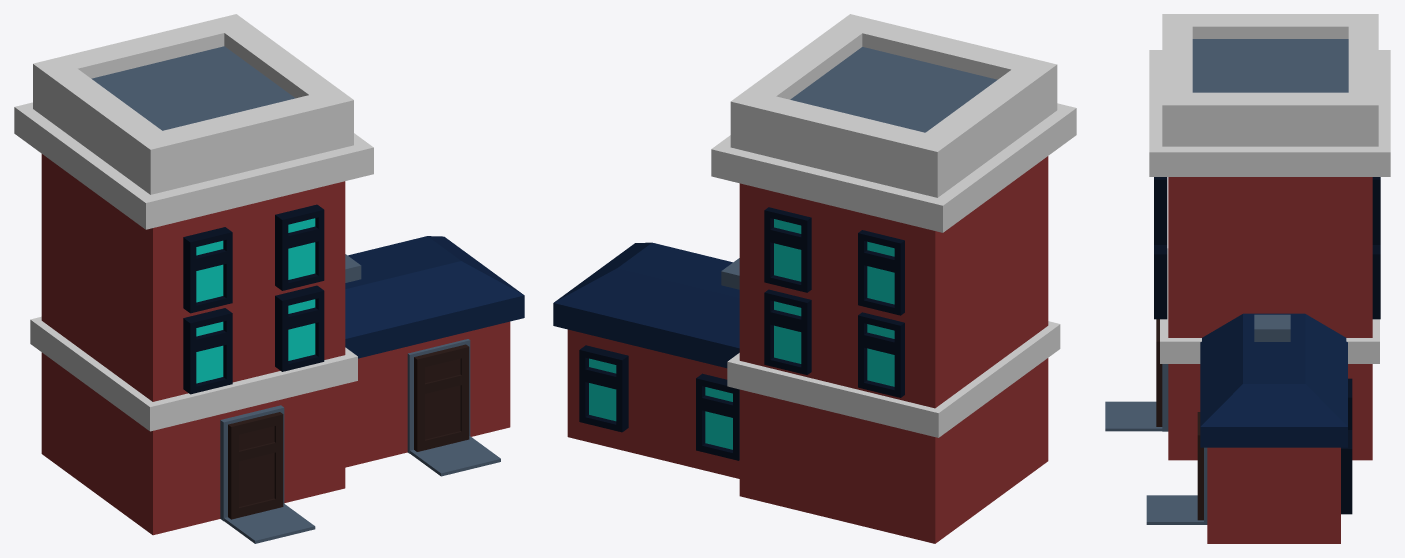
File: TownHouse_4.fbx
3 views of the same model, side by side, from view 1: azimuth 30°, elevation 25°; view 2: azimuth 150°, elevation 25°; view 3: azimuth 270°, elevation 25° (orthographic). The views are drawn at different scales.
Visible parts, largest first — view 1: TownHouse_4; view 2: TownHouse_4; view 3: TownHouse_4.
Boxes of the visible parts, x1,y1,x2,y2 form: TownHouse_4: (14, 14, 524, 543); TownHouse_4: (553, 14, 1076, 543); TownHouse_4: (1105, 14, 1390, 543).
Size of the model in its own units: 42.64 by 39.02 by 28.24.
